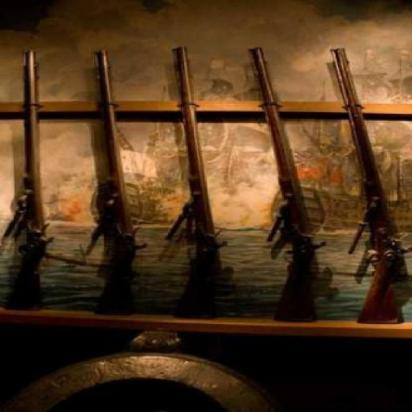Gun: (5, 50, 54, 314)
